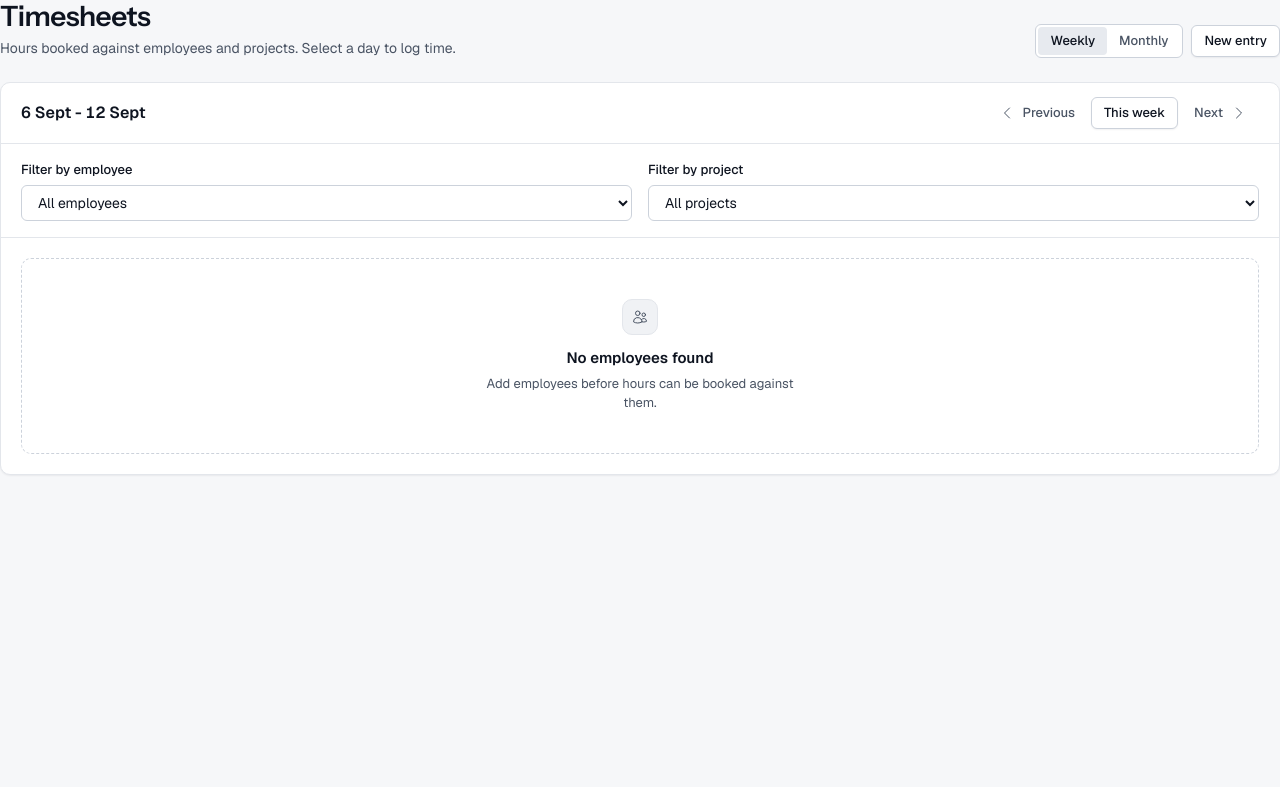
Scenario: Time/Timesheets Page › should show form fields with proper labels
The image size is (1280, 787).
Click the button "New entry" at (1236, 41), box x1=1191 y1=25 x2=1279 y2=57
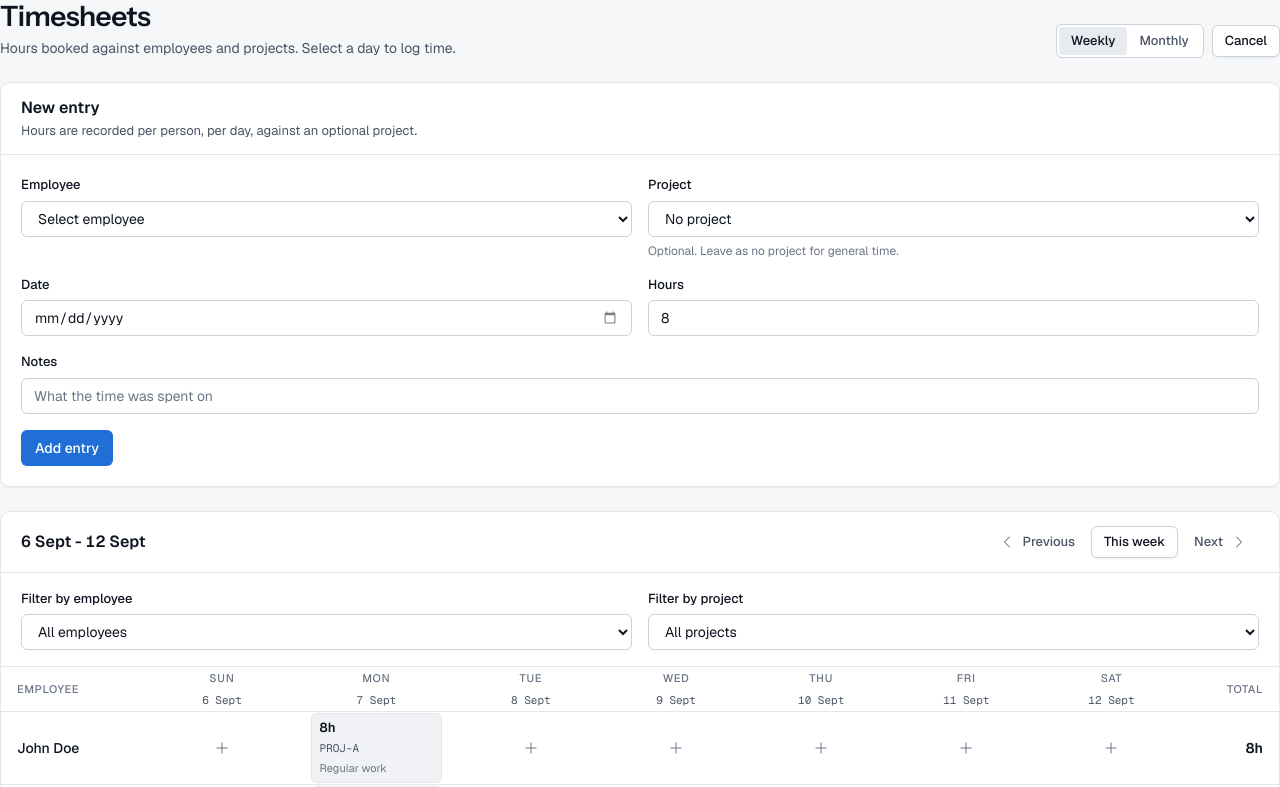
Check: the dropdown labelled "Employee" is shown, box x1=21 y1=201 x2=632 y2=237
Check: the date field labelled "Date" is shown, box x1=21 y1=300 x2=632 y2=336
Check: the number field labelled "Hours" is shown, box x1=648 y1=300 x2=1259 y2=336
